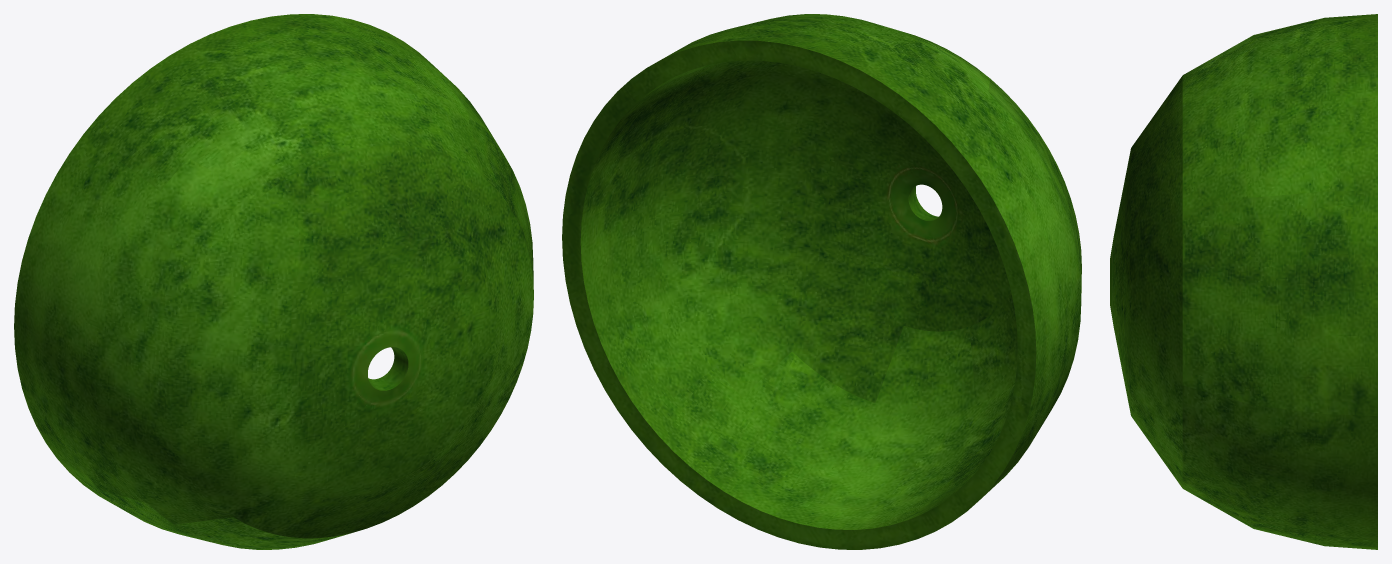
The model's file is top_cap__upper_shell.glb.
The picture shows the model from 3 angles, left to right: view 1: azimuth 30°, elevation 25°; view 2: azimuth 150°, elevation 25°; view 3: azimuth 270°, elevation 25°; orthographic projection. The views are drawn at different scales.
Parts seen in each view (by area): view 1: geometry_0; view 2: geometry_0; view 3: geometry_0.
Boxes of the visible parts, x1,y1,x2,y2 form: geometry_0: (14, 14, 533, 549); geometry_0: (562, 14, 1081, 549); geometry_0: (1110, 14, 1377, 549).
Size of the model in its own units: 0.28 by 0.28 by 0.14.
Materials: 1 (1 with a texture image).
